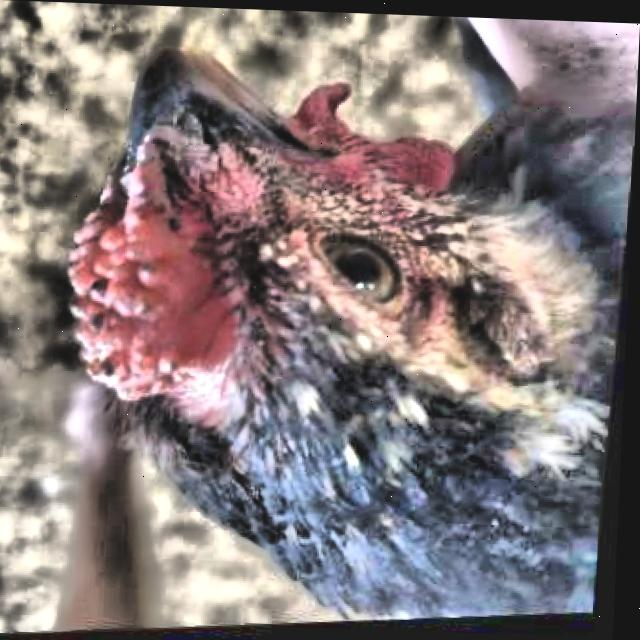Healthy: (309, 212, 426, 331)
